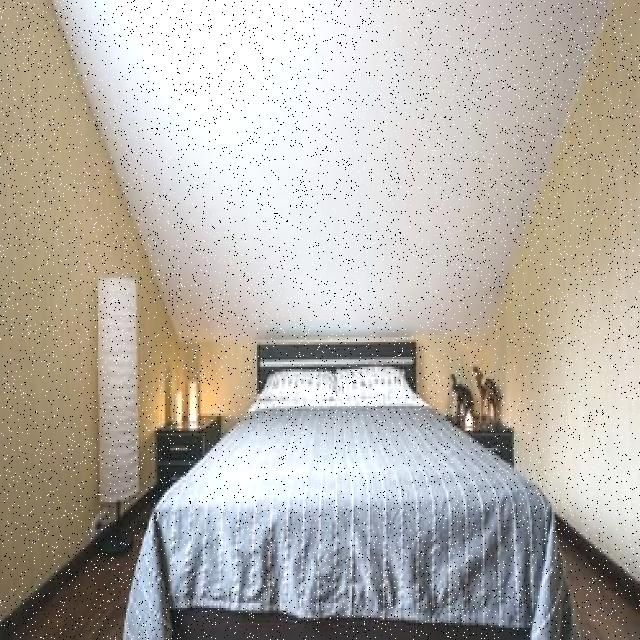bed: (197, 335, 505, 627)
